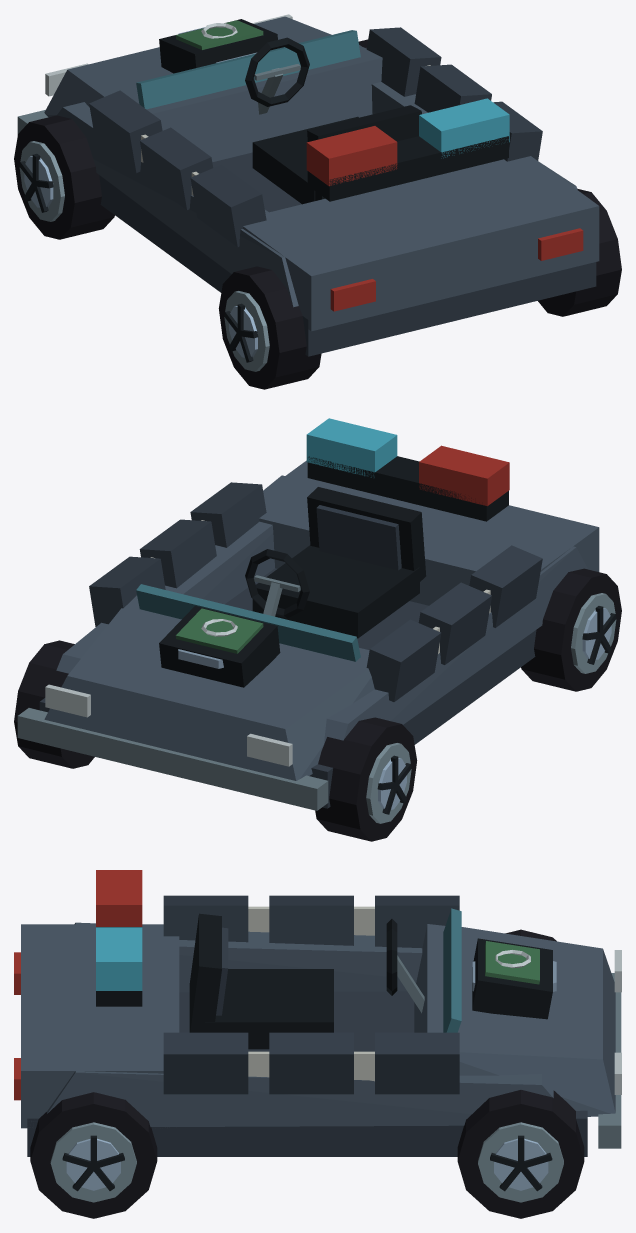
Rendered from kart.glb.
The picture shows the model from 3 angles, top to bottom: view 1: azimuth 30°, elevation 25°; view 2: azimuth 150°, elevation 25°; view 3: azimuth 270°, elevation 25°; orthographic projection. The views are drawn at different scales.
Parts seen in each view (by area): view 1: identity-police-car-police-car-road-car-body, identity-police-car-motif-armor, wheel-front-left, wheel-rear-left, identity-police-car-driver-cockpit, identity-police-car-motif-scanner, wheel-rear-right; view 2: identity-police-car-police-car-road-car-body, identity-police-car-motif-armor, identity-police-car-driver-cockpit, wheel-front-left, wheel-rear-left, identity-police-car-motif-scanner, wheel-front-right; view 3: identity-police-car-police-car-road-car-body, identity-police-car-motif-armor, wheel-front-right, identity-police-car-driver-cockpit, wheel-rear-right, identity-police-car-motif-scanner.
Part boxes in pixels (left/top/right/bottom): identity-police-car-police-car-road-car-body: left=17, top=14, right=599, bottom=356; identity-police-car-motif-armor: left=89, top=27, right=542, bottom=247; wheel-front-left: left=14, top=115, right=114, bottom=239; wheel-rear-left: left=218, top=266, right=321, bottom=389; identity-police-car-driver-cockpit: left=245, top=37, right=421, bottom=204; identity-police-car-motif-scanner: left=159, top=19, right=277, bottom=73; wheel-rear-right: left=538, top=188, right=621, bottom=316; identity-police-car-police-car-road-car-body: left=17, top=418, right=599, bottom=810; identity-police-car-motif-armor: left=89, top=482, right=542, bottom=701; identity-police-car-driver-cockpit: left=245, top=487, right=426, bottom=638; wheel-front-left: left=315, top=717, right=417, bottom=841; wheel-rear-left: left=521, top=568, right=621, bottom=691; identity-police-car-motif-scanner: left=159, top=606, right=280, bottom=687; wheel-front-right: left=14, top=640, right=94, bottom=768; identity-police-car-police-car-road-car-body: left=14, top=870, right=621, bottom=1156; identity-police-car-motif-armor: left=163, top=895, right=459, bottom=1094; wheel-front-right: left=457, top=1090, right=584, bottom=1218; identity-police-car-driver-cockpit: left=189, top=913, right=424, bottom=1049; wheel-rear-right: left=30, top=1092, right=157, bottom=1218; identity-police-car-motif-scanner: left=472, top=938, right=552, bottom=1019.
Size of the model in its own units: 2.07 by 1.13 by 2.88.
